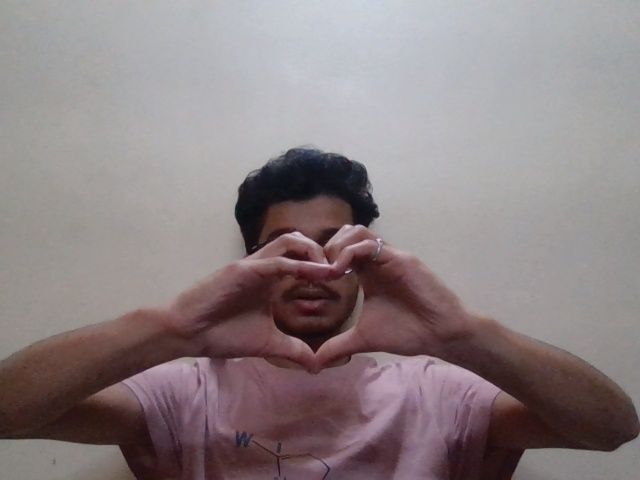silent-voice: (192, 221, 444, 392)
